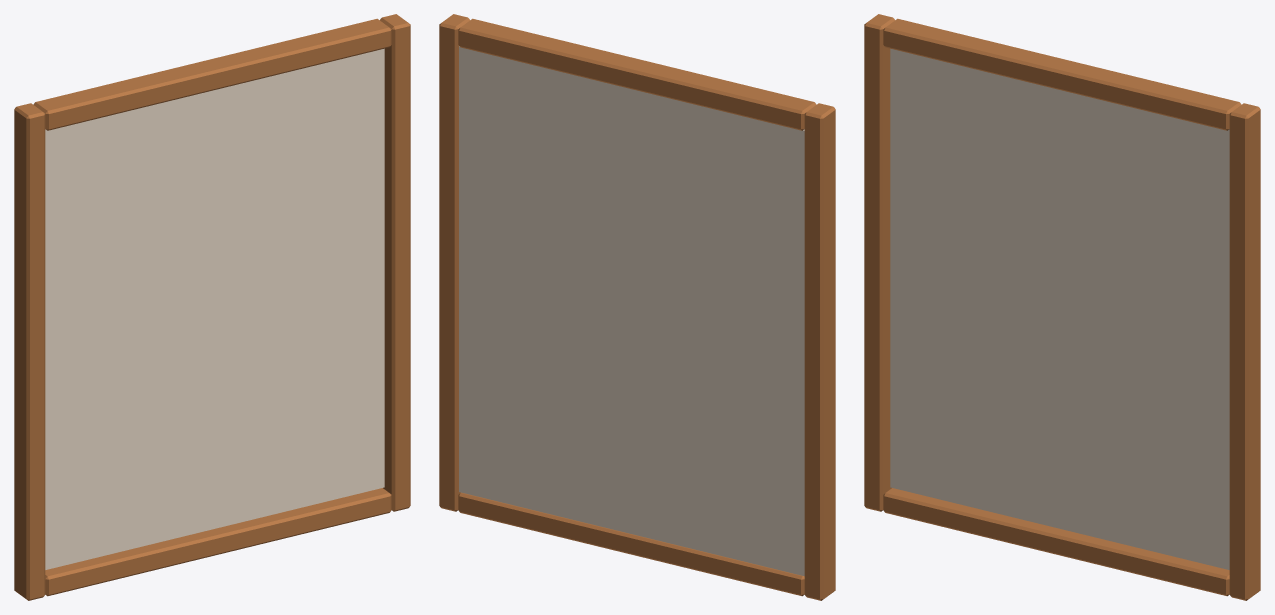
Rendered from botanicalPrint.glb.
The picture shows the model from 3 angles, left to right: view 1: azimuth 30°, elevation 25°; view 2: azimuth 150°, elevation 25°; view 3: azimuth 330°, elevation 25°; orthographic projection.
Visible parts, largest first — view 1: botanicalPrint_canvas, botanicalPrint_side_-1, botanicalPrint_side_1, botanicalPrint_rail_1, botanicalPrint_rail_-1; view 2: botanicalPrint_canvas, botanicalPrint_side_-1, botanicalPrint_rail_1, botanicalPrint_side_1, botanicalPrint_rail_-1; view 3: botanicalPrint_canvas, botanicalPrint_side_1, botanicalPrint_side_-1, botanicalPrint_rail_1, botanicalPrint_rail_-1.
Boxes of the visible parts, box(x1,y1,x2,y2) form: botanicalPrint_canvas: box(45, 48, 384, 569); botanicalPrint_side_-1: box(14, 103, 45, 600); botanicalPrint_side_1: box(380, 14, 410, 511); botanicalPrint_rail_1: box(33, 18, 391, 130); botanicalPrint_rail_-1: box(45, 488, 391, 596); botanicalPrint_canvas: box(459, 46, 804, 576); botanicalPrint_side_-1: box(804, 103, 835, 600); botanicalPrint_rail_1: box(458, 18, 816, 130); botanicalPrint_side_1: box(439, 14, 469, 511); botanicalPrint_rail_-1: box(458, 492, 804, 596); botanicalPrint_canvas: box(890, 48, 1229, 569); botanicalPrint_side_1: box(1229, 103, 1260, 600); botanicalPrint_side_-1: box(864, 14, 894, 511); botanicalPrint_rail_1: box(883, 18, 1241, 130); botanicalPrint_rail_-1: box(883, 488, 1229, 596).
Bounding box in the file's own units: 1.21 × 1.46 × 0.08.
